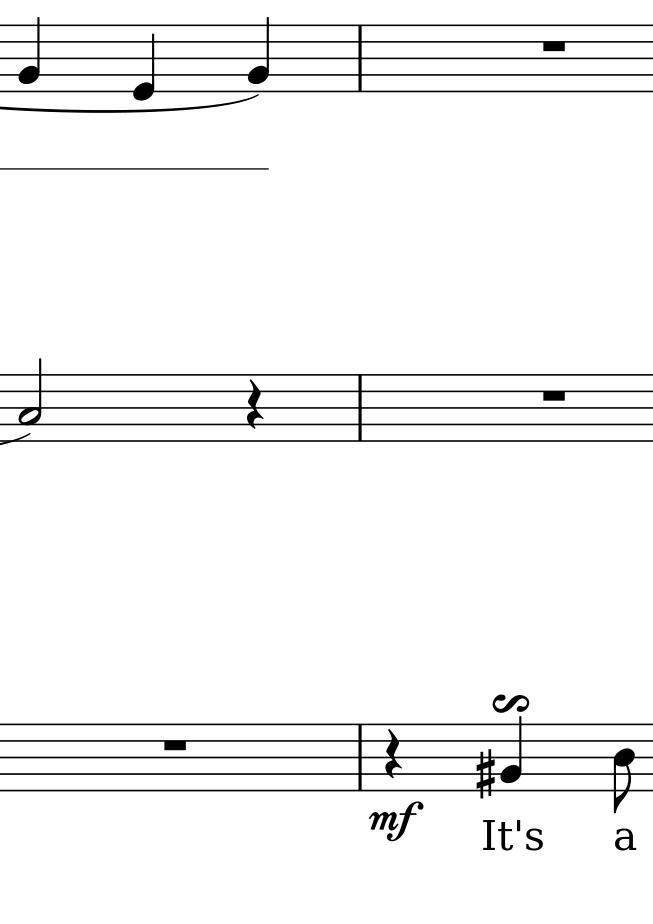2_3: (16, 355, 45, 446)
4_0: (129, 22, 156, 102)
4_2: (16, 14, 42, 93), (500, 715, 525, 794), (247, 15, 271, 94)
8_4: (611, 721, 635, 815)
Inverted_turn: (491, 692, 529, 715)
Rests1: (157, 735, 194, 755), (537, 385, 571, 406), (537, 37, 571, 57)
Rests4: (243, 379, 265, 433), (383, 731, 403, 779)
Sharp: (471, 747, 499, 801)
Single_barline: (352, 374, 368, 441), (352, 25, 368, 90), (353, 724, 367, 791)
mf: (366, 800, 424, 842)
